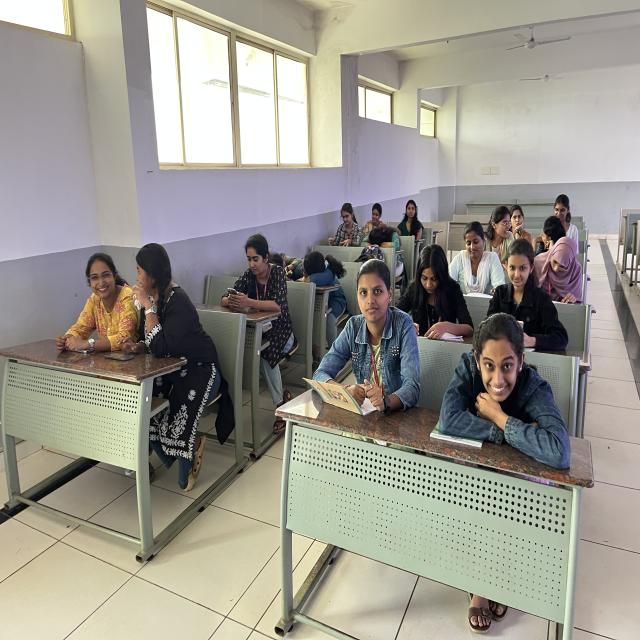Reading: (447, 217, 503, 308)
Sleeping: (268, 190, 348, 335), (364, 215, 410, 271)
Using Phone: (101, 226, 215, 383), (216, 224, 311, 378)
Writing: (525, 226, 595, 330)
